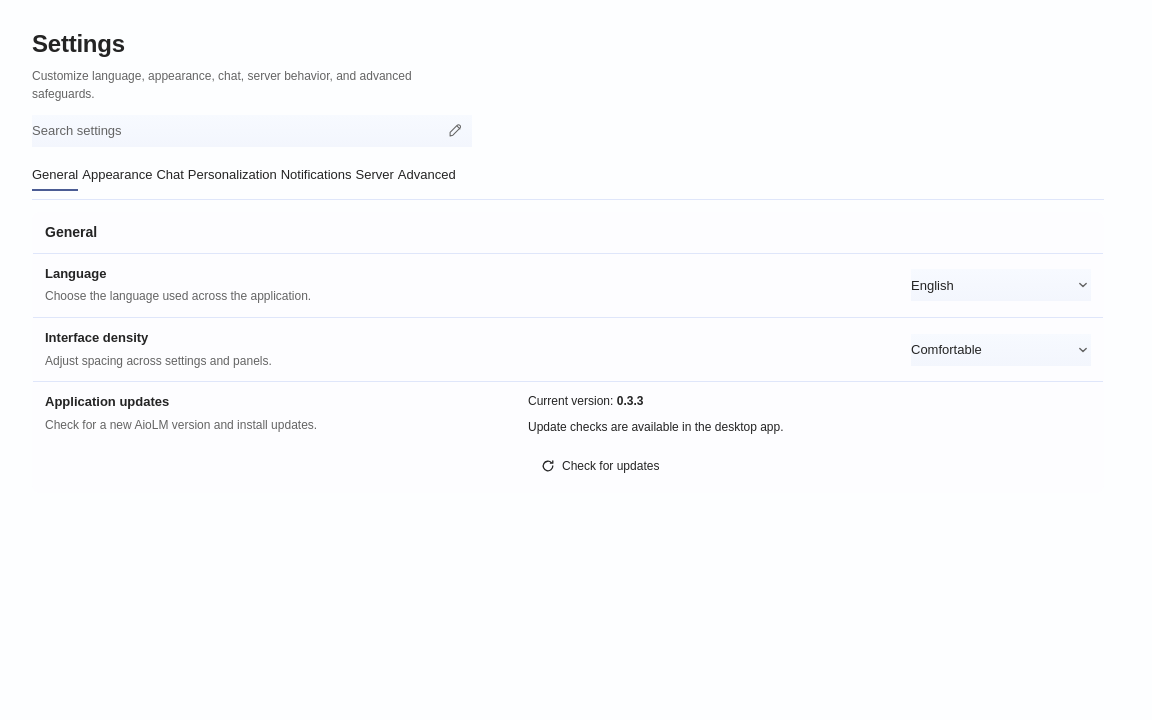
SettingsPanel layout › keeps the theme selector in the Appearance page only
Click the tab "Appearance": (117, 175) [82,159,152,191]
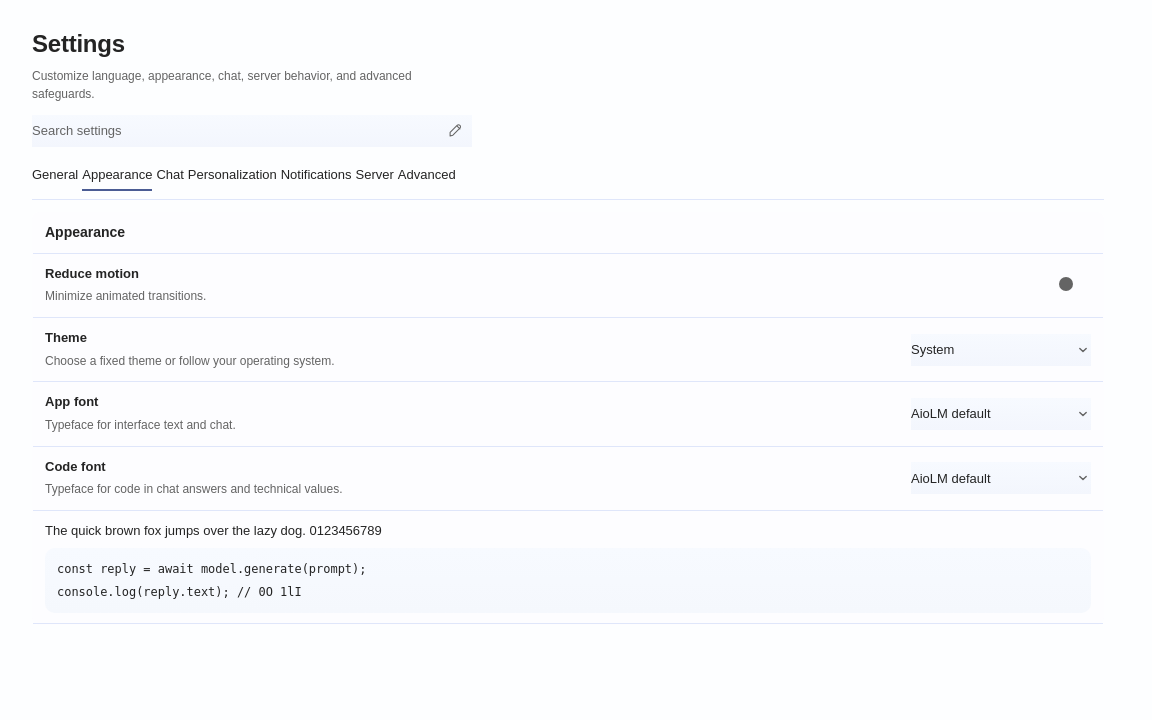
expect the number of dropdowns with id "settings-theme" is 1: met, box [911,334,1091,366]
